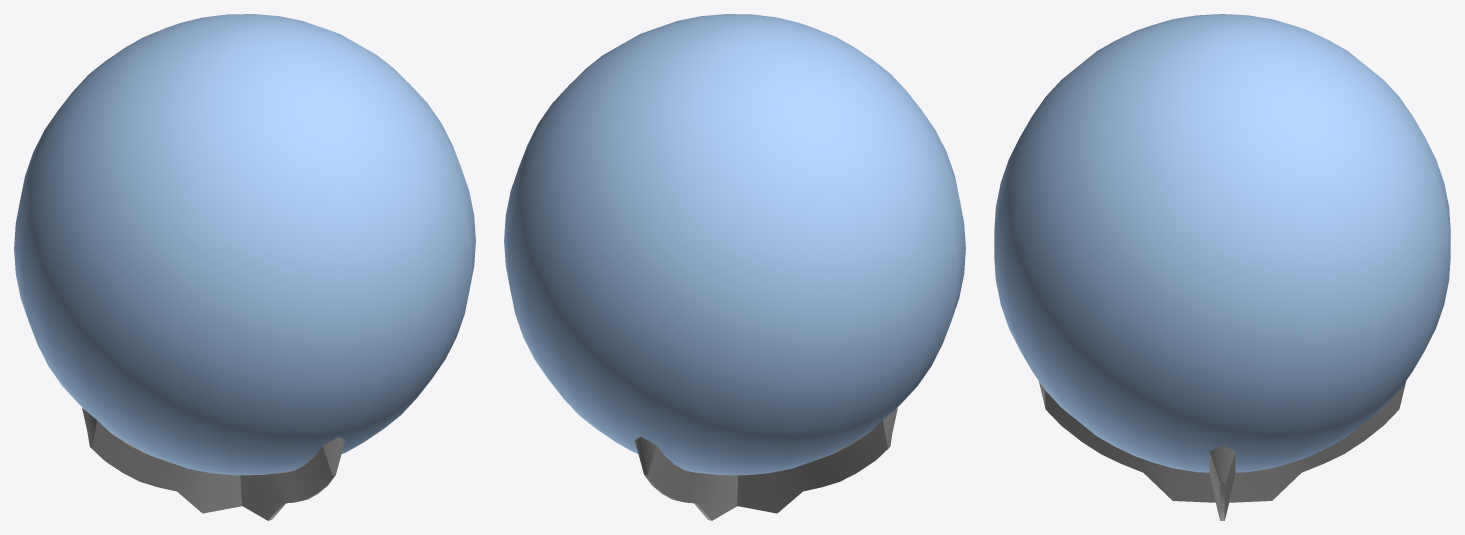
Rendered from crystal_ball.fbx.
3 views of the same model, side by side, from view 1: azimuth 30°, elevation 25°; view 2: azimuth 150°, elevation 25°; view 3: azimuth 270°, elevation 25° (orthographic).
Visible parts, largest first — view 1: crystal_ball1, base; view 2: crystal_ball1, base; view 3: crystal_ball1, base.
Boxes of the visible parts, x1=… form: crystal_ball1: x1=14, y1=14, x2=475, y2=475; base: x1=82, y1=408, x2=344, y2=520; crystal_ball1: x1=504, y1=14, x2=965, y2=475; base: x1=635, y1=408, x2=897, y2=520; crystal_ball1: x1=994, y1=14, x2=1450, y2=472; base: x1=1039, y1=381, x2=1405, y2=520.
Bounding box in the file's own units: 13.05 × 14.54 × 12.95.
